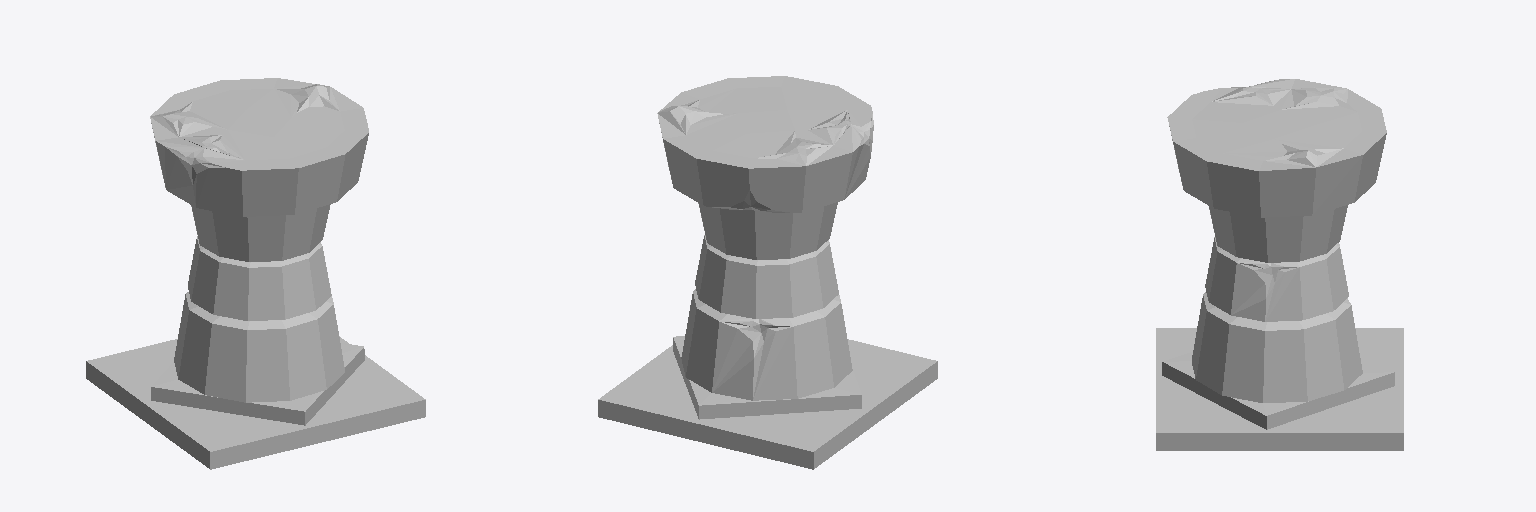
The model's file is Pillar2 (1).obj.
3 views of the same model, side by side, from view 1: azimuth 30°, elevation 25°; view 2: azimuth 150°, elevation 25°; view 3: azimuth 270°, elevation 25° (orthographic).
Parts seen in each view (by area): view 1: Plane.002; view 2: Plane.002; view 3: Plane.002.
Boxes of the visible parts, <box> form: Plane.002: <box>86,78,425,469</box>; Plane.002: <box>598,76,937,469</box>; Plane.002: <box>1156,79,1403,450</box>.
Size of the model in its own units: 2 by 2.52 by 2.